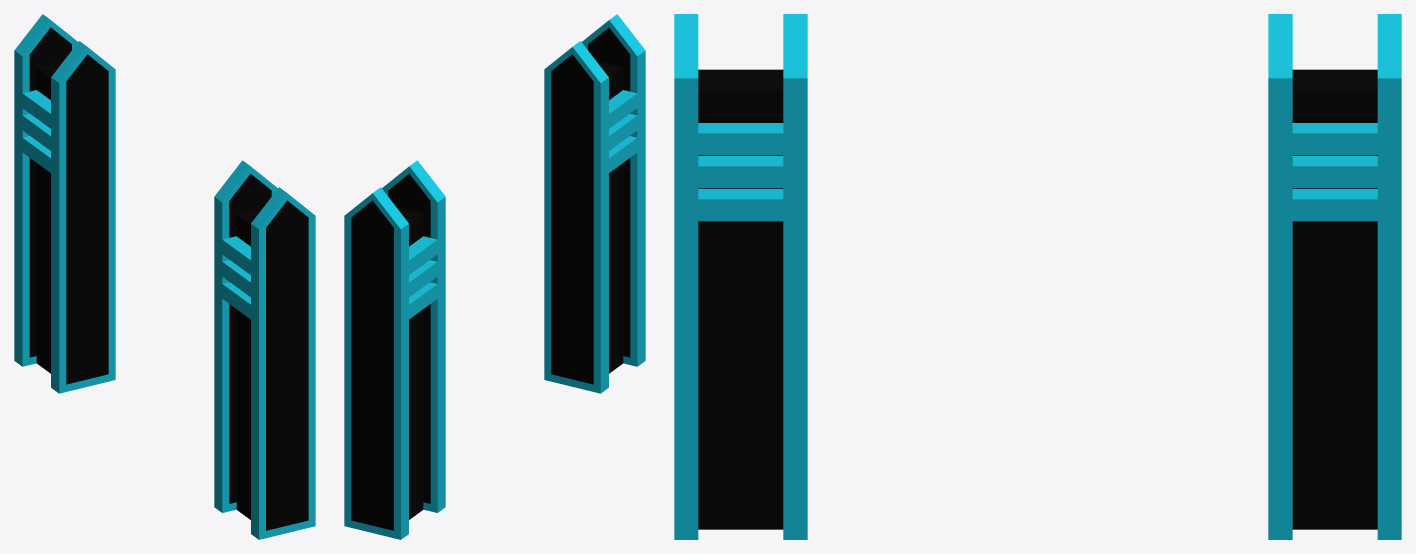
Rendered from WallDoor.glb.
The picture shows the model from 3 angles, left to right: view 1: azimuth 30°, elevation 25°; view 2: azimuth 150°, elevation 25°; view 3: azimuth 270°, elevation 25°; orthographic projection. The views are drawn at different scales.
Visible parts, largest first — view 1: Divider.010, Divider.014, Cube.081, Cube.068, Cube.063, Cube.076, StraightWall.001, StraightWall.002, Divider.009, Divider.013, Cube.082, Cube.069 (+12 smaller); view 2: Divider.009, Divider.013, Cube.076, Cube.063, Cube.068, Cube.081, StraightWall.002, StraightWall.001, Divider.010, Divider.014, Cube.077, Cube.064 (+12 smaller); view 3: StraightWall.001, StraightWall.002, Cube.064, Cube.069, Cube.077, Cube.082, Cube.074, Cube.085, Cube.086, Cube.072, Cube.073, Cube.087 (+4 smaller).
Part boxes in pixels (x1,y1,x2,y2): Divider.010: (266,200,308,530); Divider.014: (66,54,108,384); Cube.081: (51,77,66,386); Cube.068: (251,224,265,532); Cube.063: (14,50,29,359); Cube.076: (214,197,229,505); StraightWall.001: (236,207,262,519); StraightWall.002: (36,61,62,373); Divider.009: (29,27,71,357); Divider.013: (229,173,271,503); Cube.082: (108,69,115,373); Cube.069: (308,216,315,520); Divider.009: (351,200,393,530); Divider.013: (551,54,593,384); Cube.076: (593,77,608,386); Cube.063: (394,224,408,532); Cube.068: (630,50,645,359); Cube.081: (430,197,445,505); StraightWall.002: (397,207,423,519); StraightWall.001: (597,61,623,373); Divider.010: (588,27,630,357); Divider.014: (388,173,430,503); Cube.077: (544,69,551,373); Cube.064: (344,216,351,520); StraightWall.001: (698,69,783,529); StraightWall.002: (1292,69,1377,529); Cube.064: (1377,78,1401,528); Cube.069: (674,78,698,528); Cube.077: (783,78,807,528); Cube.082: (1268,78,1292,528); Cube.074: (1292,189,1377,221); Cube.085: (1292,156,1377,188); Cube.086: (1292,123,1377,155); Cube.072: (698,189,783,221); Cube.073: (698,156,783,188); Cube.087: (698,123,783,155).
Bounding box in the file's own units: 0.8 × 4.6 × 6.
